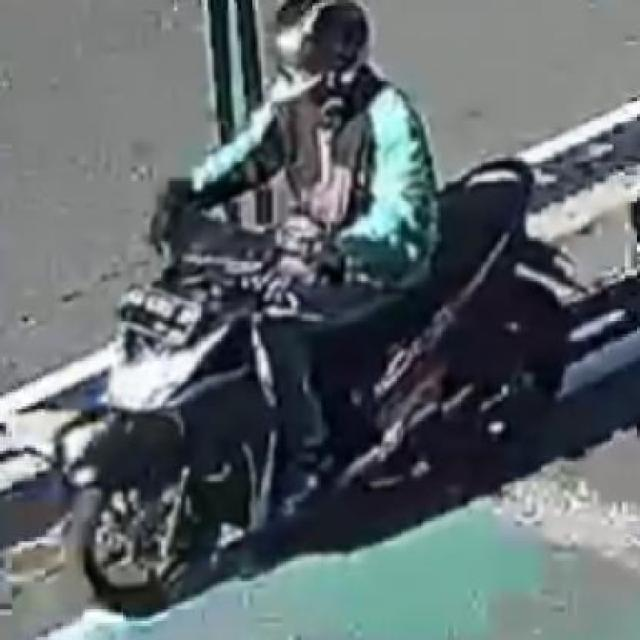helmet: (226, 3, 402, 117)
motorcycle: (44, 0, 586, 624)
